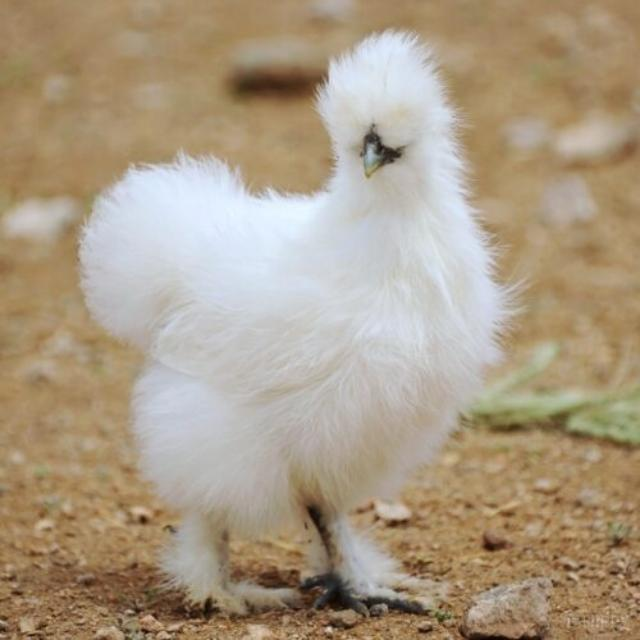Chicken: (79, 20, 508, 615)
